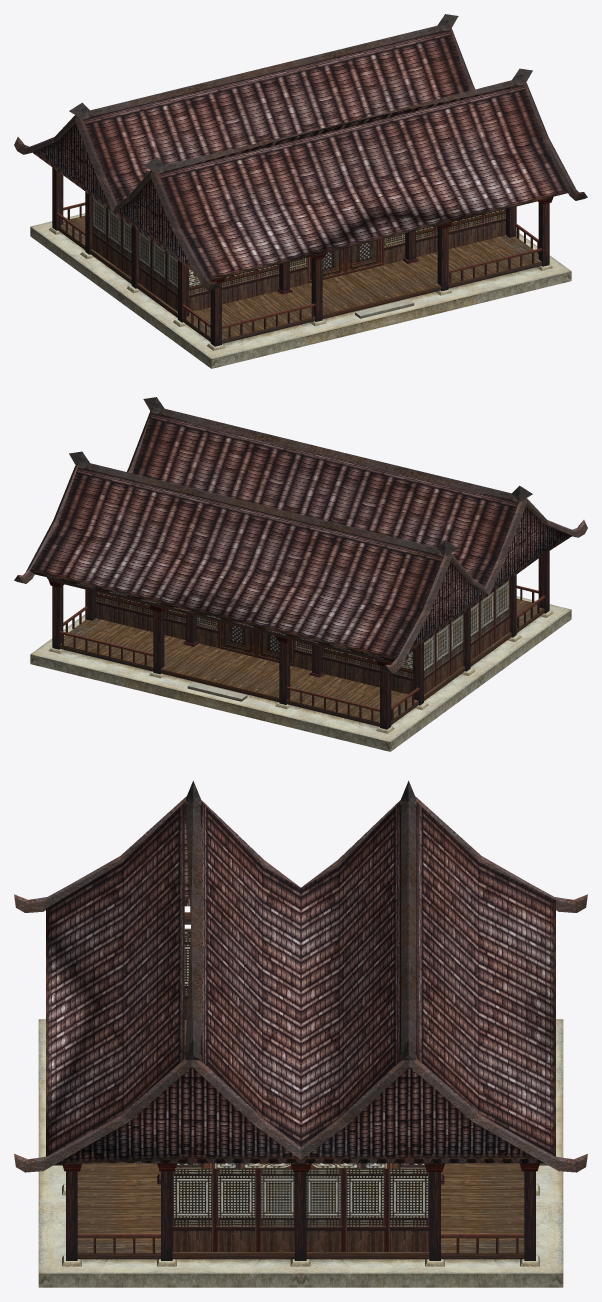
The model's file is ob-033-guesthouse-01_lod_01.fbx.
The picture shows the model from 3 angles, top to bottom: view 1: azimuth 30°, elevation 25°; view 2: azimuth 150°, elevation 25°; view 3: azimuth 270°, elevation 25°; orthographic projection. The views are drawn at different scales.
Visible parts, largest first — view 1: desert-033-guesthouse-01, ob-033-guesthouse-02; view 2: desert-033-guesthouse-01, ob-033-guesthouse-02; view 3: desert-033-guesthouse-01, ob-033-guesthouse-02.
Boxes of the visible parts, x1,y1,x2,y2 form: desert-033-guesthouse-01: (14,14,587,318); ob-033-guesthouse-02: (30,167,571,368); desert-033-guesthouse-01: (14,397,587,701); ob-033-guesthouse-02: (30,551,571,751); desert-033-guesthouse-01: (14,780,587,1184); ob-033-guesthouse-02: (38,912,563,1287).
Size of the model in its own units: 20.25 by 8.59 by 17.86.
